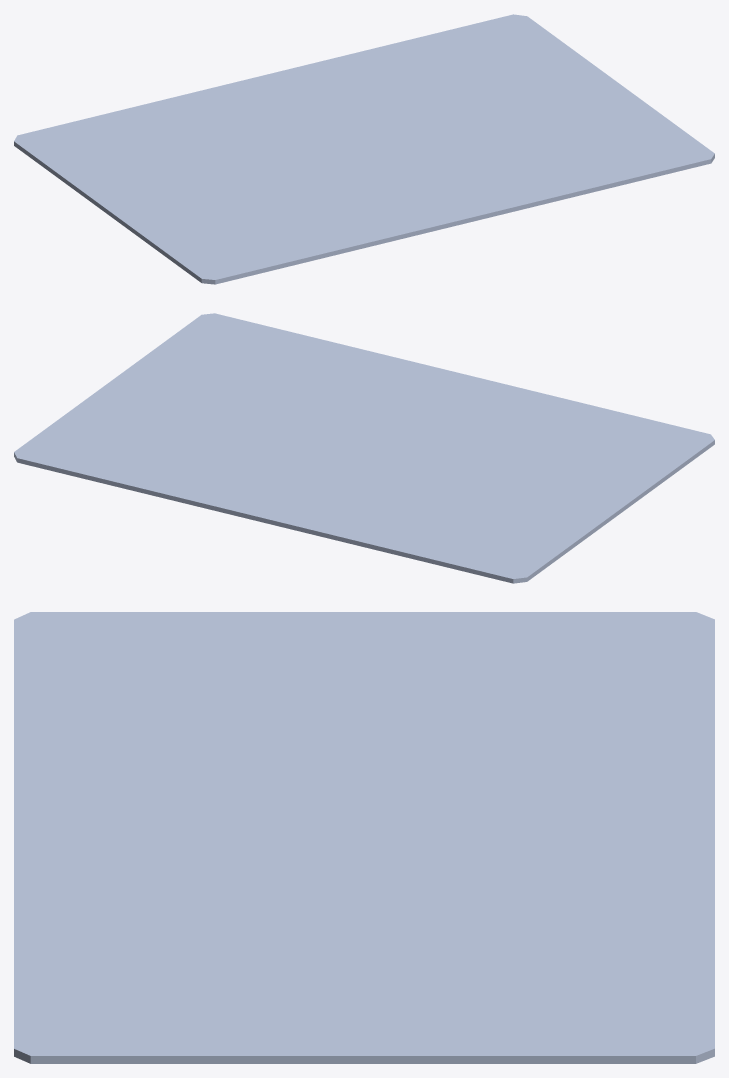
The model's file is Card_Key.fbx.
3 renders of one model, top to bottom at view 1: azimuth 30°, elevation 25°; view 2: azimuth 150°, elevation 25°; view 3: azimuth 270°, elevation 25°, orthographic. The views are drawn at different scales.
Parts seen in each view (by area): view 1: Plane; view 2: Plane; view 3: Plane.
Part boxes in pixels (x1,y1,x2,y2): Plane: [14, 14, 714, 284]; Plane: [14, 313, 714, 583]; Plane: [14, 612, 714, 1063].
Size of the model in its own units: 60 by 0.5009 by 40.03.
